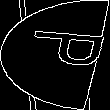P_E: (6, 33, 104, 77)
